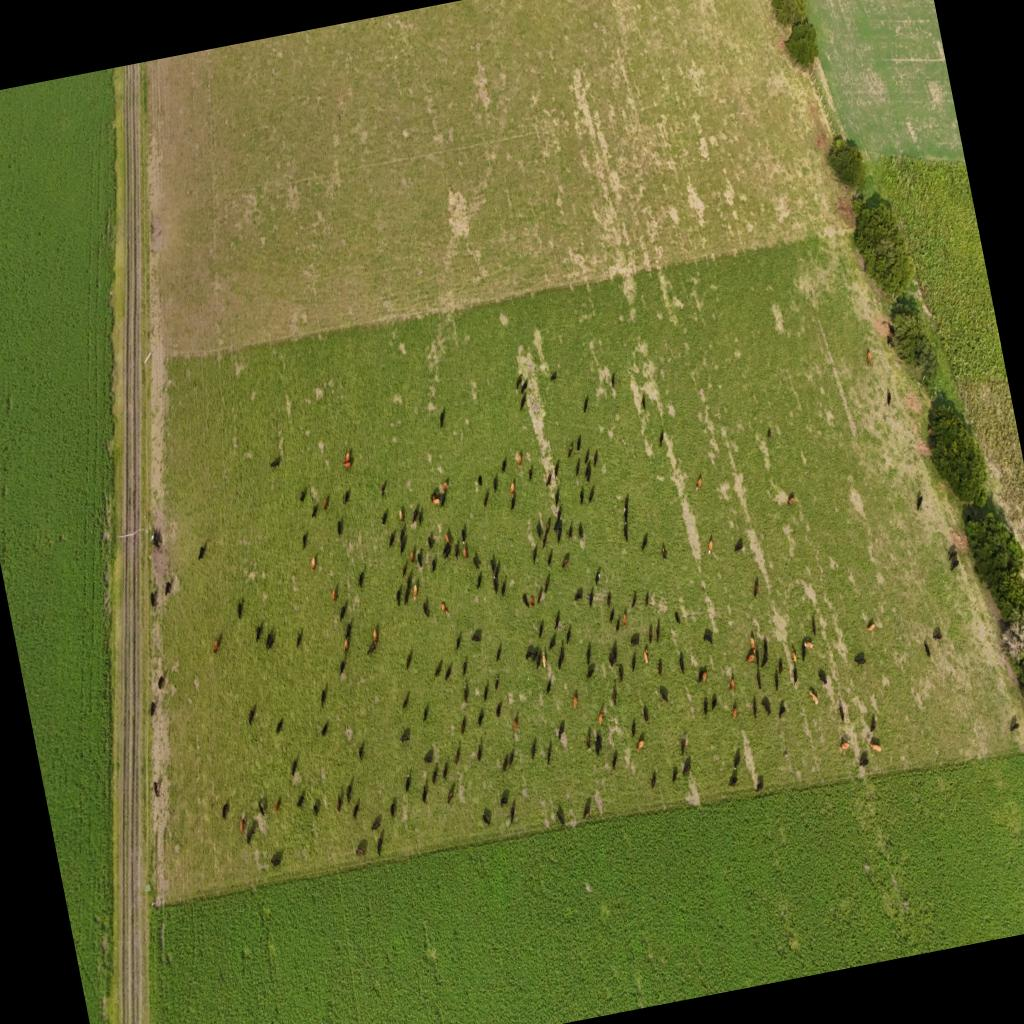cow: (660, 544, 668, 560)
